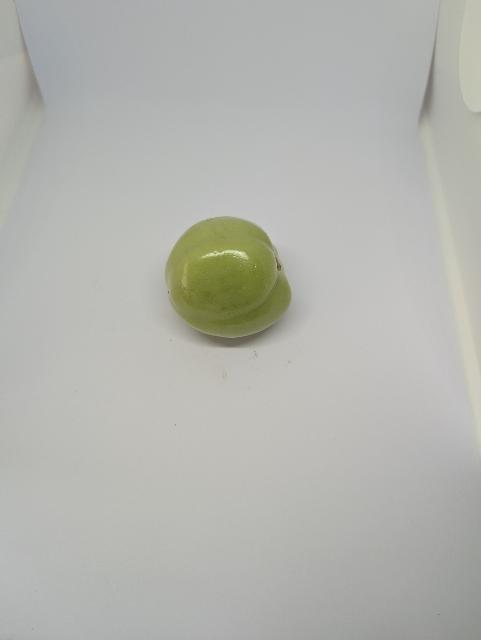green: (151, 205, 300, 358)
